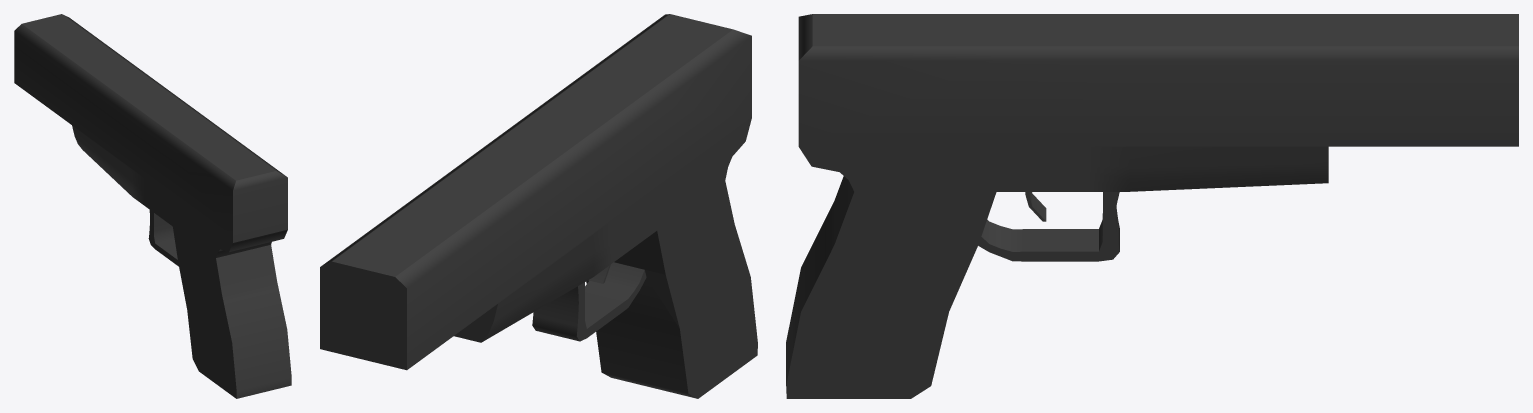
File: Wepon01.fbx
3 renders of one model, left to right at view 1: azimuth 30°, elevation 25°; view 2: azimuth 150°, elevation 25°; view 3: azimuth 270°, elevation 25°, orthographic. The views are drawn at different scales.
Parts seen in each view (by area): view 1: pCube5; view 2: pCube5; view 3: pCube5.
Part boxes in pixels (x1,y1,x2,y2): pCube5: (14, 14, 291, 398); pCube5: (320, 14, 757, 398); pCube5: (786, 14, 1518, 398).
Bounding box in the file's own units: 36.37 × 133 × 254.
1 material, 1 textured.
